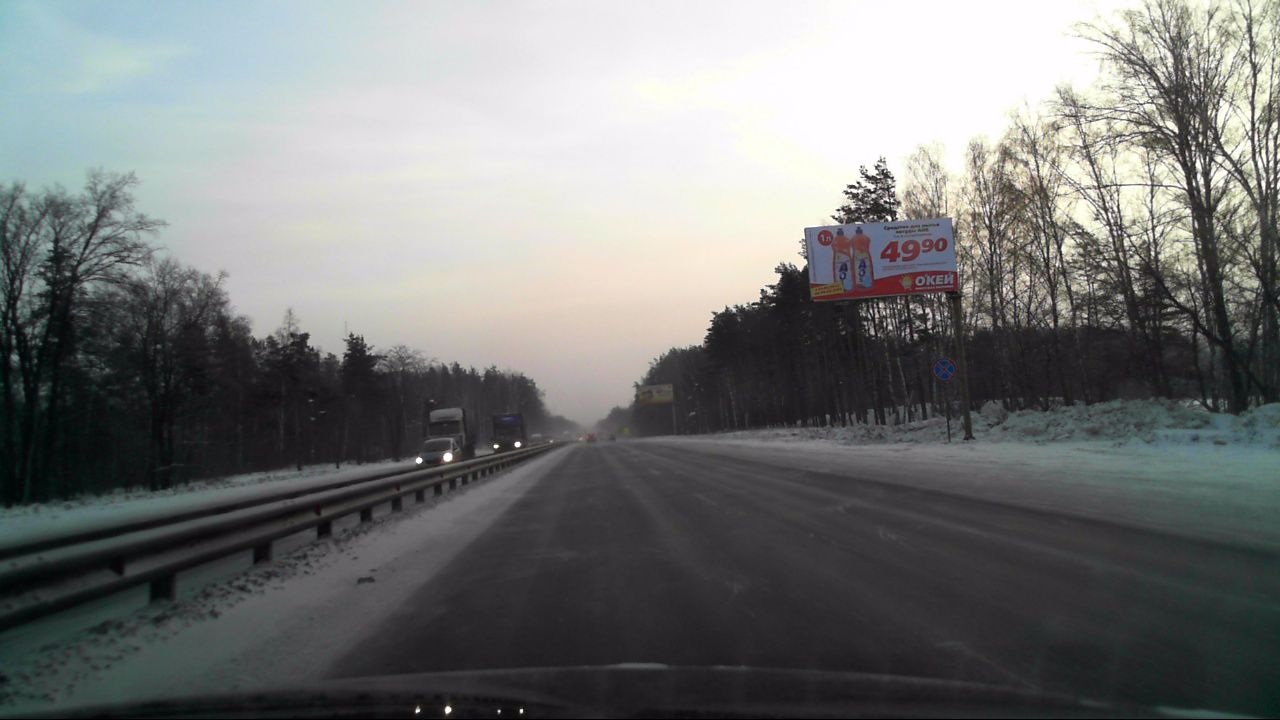No Parking: (932, 357, 956, 381)
